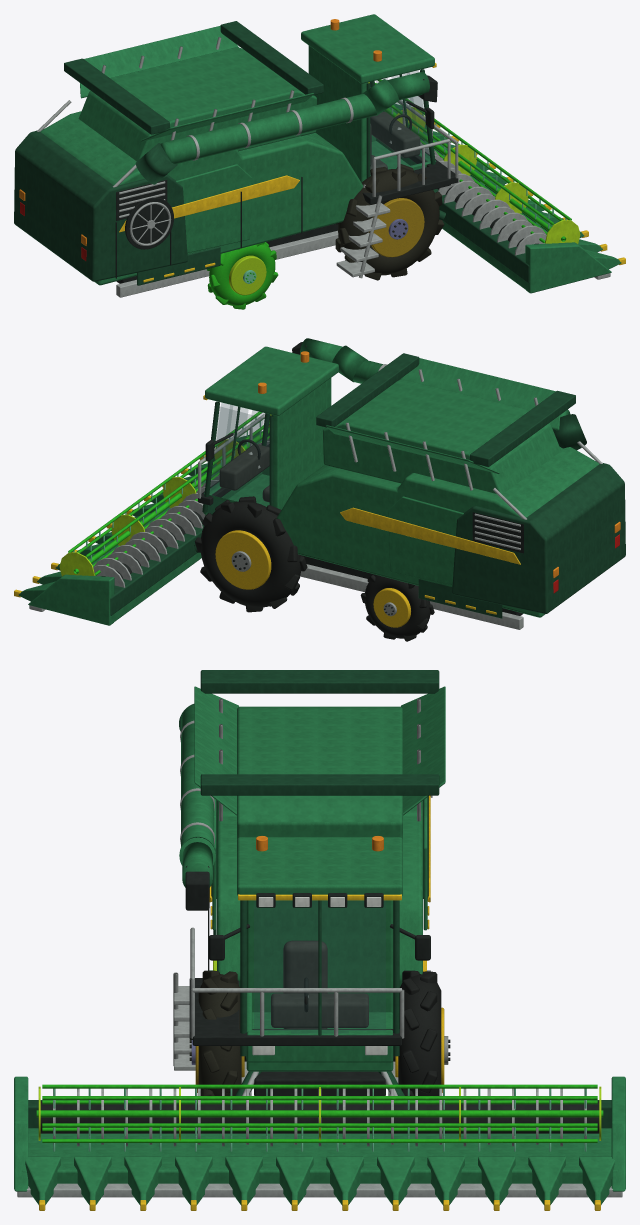
Rendered from generated-agri-harvester.glb.
The picture shows the model from 3 angles, top to bottom: view 1: azimuth 30°, elevation 25°; view 2: azimuth 150°, elevation 25°; view 3: azimuth 270°, elevation 25°; orthographic projection. The views are drawn at different scales.
Parts seen in each view (by area): view 1: harvester-body-surface, harvester-header-surface, harvester-wheel-front-left-surface, harvester-reel-surface, harvester-wheel-rear-left-surface, harvester-body-glass-surface; view 2: harvester-body-surface, harvester-header-surface, harvester-wheel-front-right-surface, harvester-body-glass-surface, harvester-reel-surface, harvester-wheel-rear-right-surface; view 3: harvester-body-surface, harvester-header-surface, harvester-reel-surface, harvester-body-glass-surface, harvester-wheel-front-right-surface, harvester-wheel-front-left-surface.
Part boxes in pixels (x1,y1,x2,y2): harvester-body-surface: [14, 14, 458, 297]; harvester-header-surface: [383, 104, 625, 293]; harvester-wheel-front-left-surface: [335, 164, 444, 280]; harvester-reel-surface: [368, 79, 580, 243]; harvester-wheel-rear-left-surface: [206, 242, 278, 309]; harvester-body-glass-surface: [368, 70, 430, 175]; harvester-body-surface: [198, 338, 625, 629]; harvester-header-surface: [14, 431, 269, 625]; harvester-wheel-front-right-surface: [194, 496, 307, 612]; harvester-body-glass-surface: [207, 403, 271, 513]; harvester-reel-surface: [59, 411, 271, 576]; harvester-wheel-rear-right-surface: [360, 574, 434, 641]; harvester-body-surface: [173, 670, 445, 1095]; harvester-header-surface: [14, 1071, 625, 1210]; harvester-reel-surface: [36, 1084, 603, 1151]; harvester-body-glass-surface: [254, 900, 385, 1033]; harvester-wheel-front-right-surface: [395, 970, 450, 1095]; harvester-wheel-front-left-surface: [189, 970, 244, 1095].
Size of the model in its own units: 9.19 by 3.99 by 7.6.
3 materials, 2 textured.
